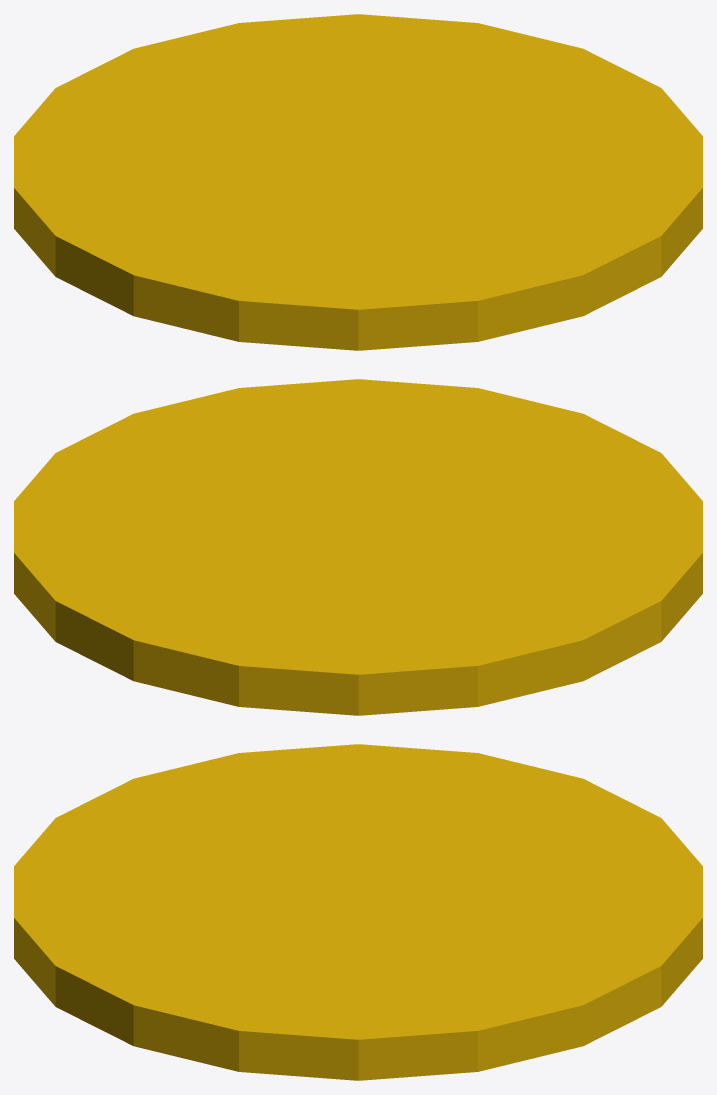
File: ef_Slot_Coin_001.FBX
3 renders of one model, top to bottom at view 1: azimuth 30°, elevation 25°; view 2: azimuth 150°, elevation 25°; view 3: azimuth 270°, elevation 25°, orthographic.
Parts seen in each view (by area): view 1: Cylinder002; view 2: Cylinder002; view 3: Cylinder002.
Boxes of the visible parts, <box> form: Cylinder002: <box>14,14,702,350</box>; Cylinder002: <box>14,379,702,715</box>; Cylinder002: <box>14,744,702,1080</box>.
Size of the model in its own units: 105 by 6.8 by 103.
